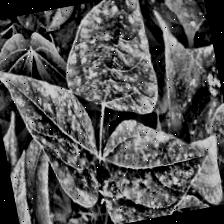Bean Rust: (0, 53, 112, 222), (47, 0, 167, 129), (91, 109, 220, 224), (141, 0, 216, 139), (175, 43, 224, 197), (16, 5, 78, 34)
